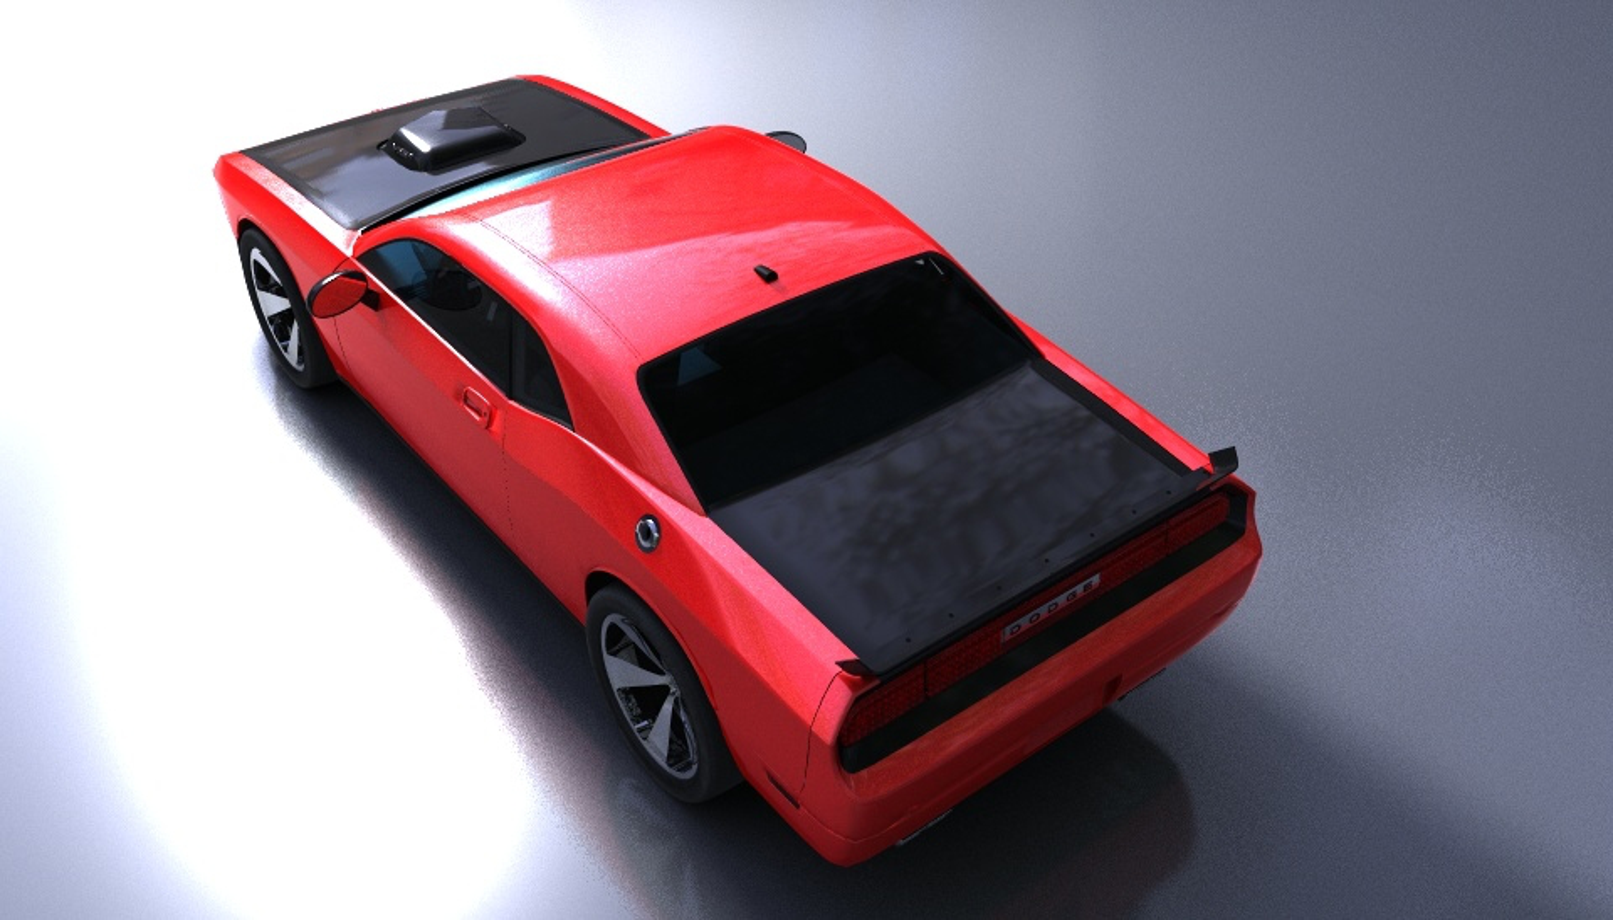hatch: (628, 510, 669, 558)
